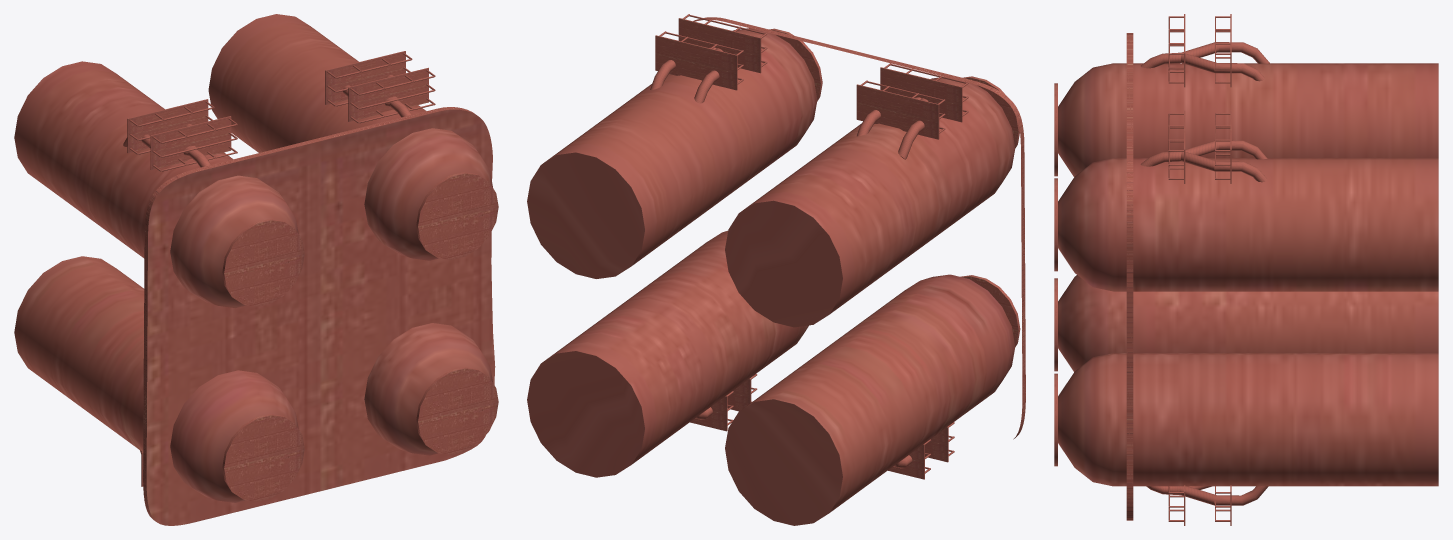
Rendered from build11.gltf.
3 views of the same model, side by side, from view 1: azimuth 30°, elevation 25°; view 2: azimuth 150°, elevation 25°; view 3: azimuth 270°, elevation 25° (orthographic).
Parts seen in each view (by area): view 1: Cylinder002; view 2: Cylinder002; view 3: Cylinder002.
Part boxes in pixels (x1,y1,x2,y2): Cylinder002: [14, 14, 498, 525]; Cylinder002: [527, 14, 1025, 525]; Cylinder002: [1054, 14, 1438, 525].
Size of the model in its own units: 77.26 by 78.61 by 73.67.
1 material, 1 textured.
